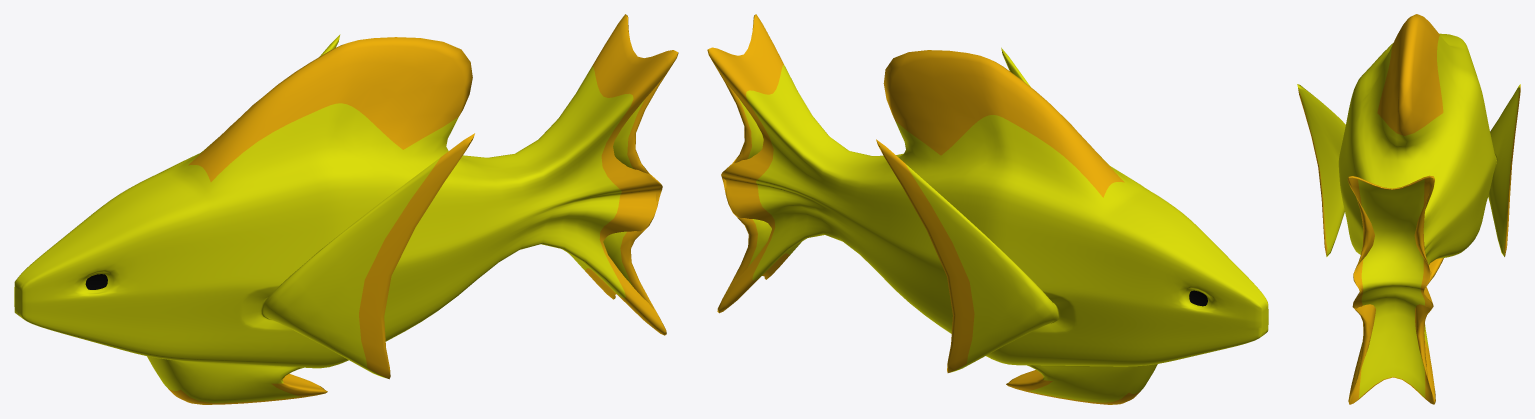
Rendered from fishtest.fbx.
3 views of the same model, side by side, from view 1: azimuth 30°, elevation 25°; view 2: azimuth 150°, elevation 25°; view 3: azimuth 270°, elevation 25° (orthographic). The views are drawn at different scales.
Visible parts, largest first — view 1: pCube1; view 2: pCube1; view 3: pCube1.
Part boxes in pixels (x1=…): pCube1: x1=14, y1=14, x2=678, y2=404; pCube1: x1=707, y1=14, x2=1268, y2=404; pCube1: x1=1297, y1=14, x2=1520, y2=404.
Size of the model in its own units: 15.9 by 8.65 by 6.14.
